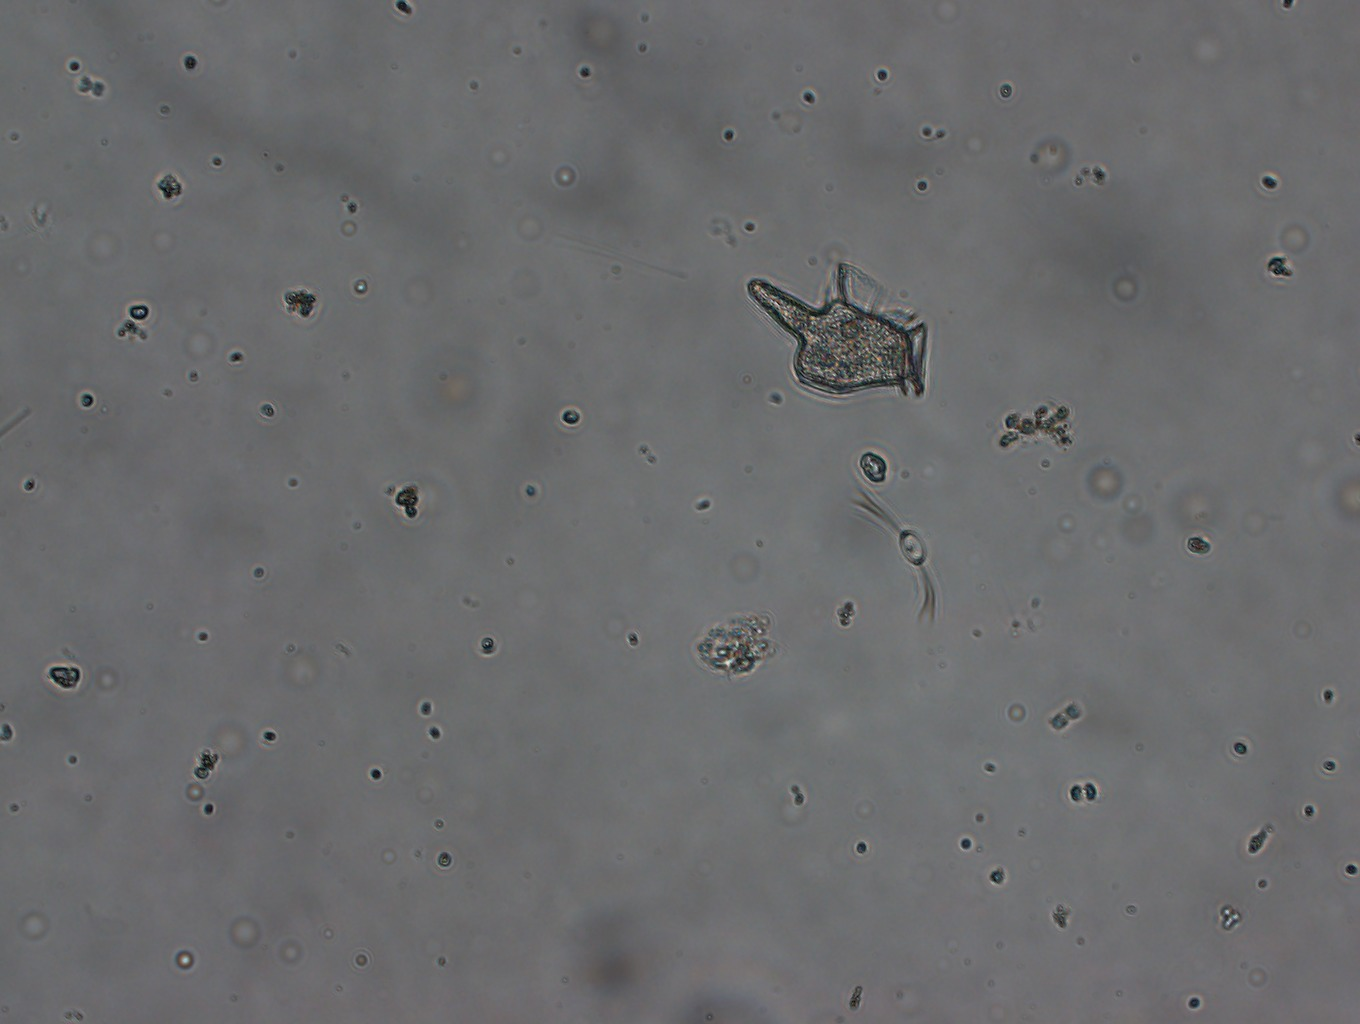chaetoceros: (851, 478, 945, 636)
dinophysis caudata: (753, 247, 928, 413)
